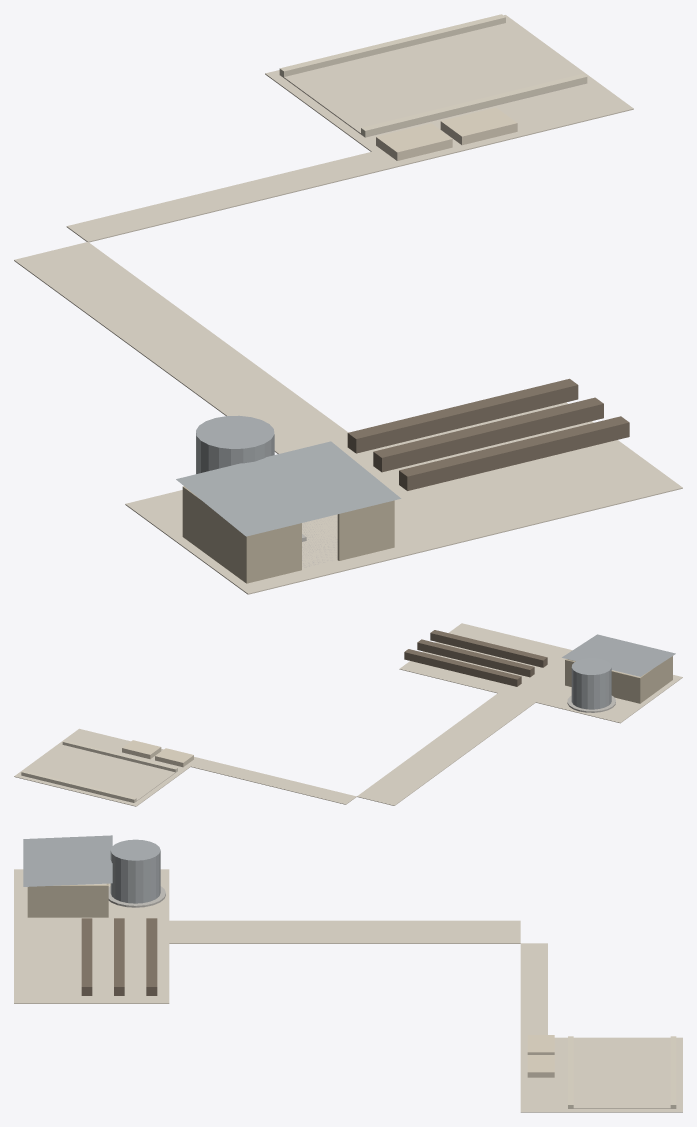
File: infrastructure.lod2.glb
3 renders of one model, top to bottom at view 1: azimuth 30°, elevation 25°; view 2: azimuth 150°, elevation 25°; view 3: azimuth 270°, elevation 25°, orthographic. The views are drawn at different scales.
Size of the model in its own units: 42.5 by 3.7 by 49.5.
